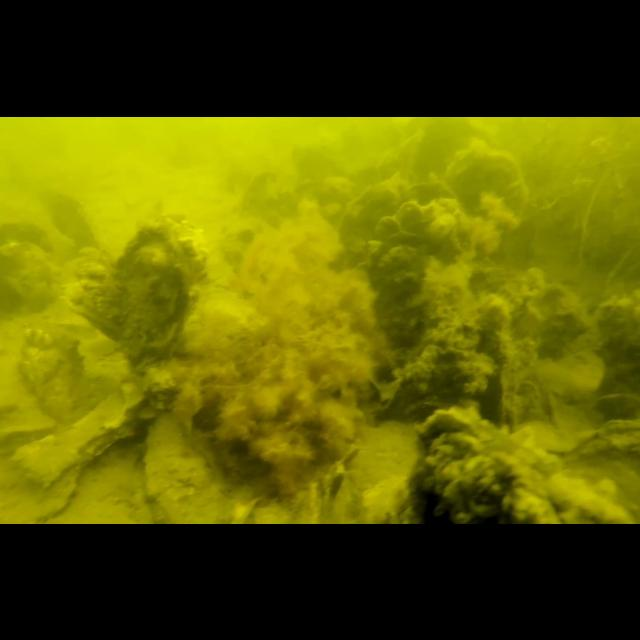Oyster-Closed: (115, 211, 208, 373), (11, 379, 144, 487), (442, 451, 640, 523), (142, 408, 234, 524), (442, 139, 528, 255), (336, 176, 458, 252), (16, 324, 90, 426), (60, 244, 120, 344), (369, 200, 458, 262), (34, 183, 102, 247)
Oyster-Open: (408, 398, 560, 524), (364, 228, 428, 348), (0, 217, 66, 315), (216, 222, 260, 298), (590, 389, 640, 431)
